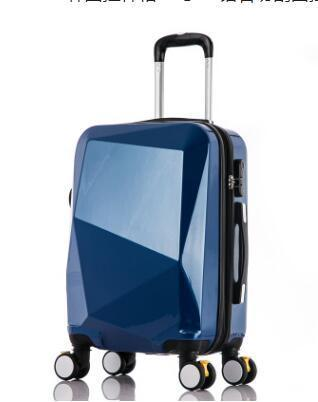suitcase: (61, 116, 253, 357)
